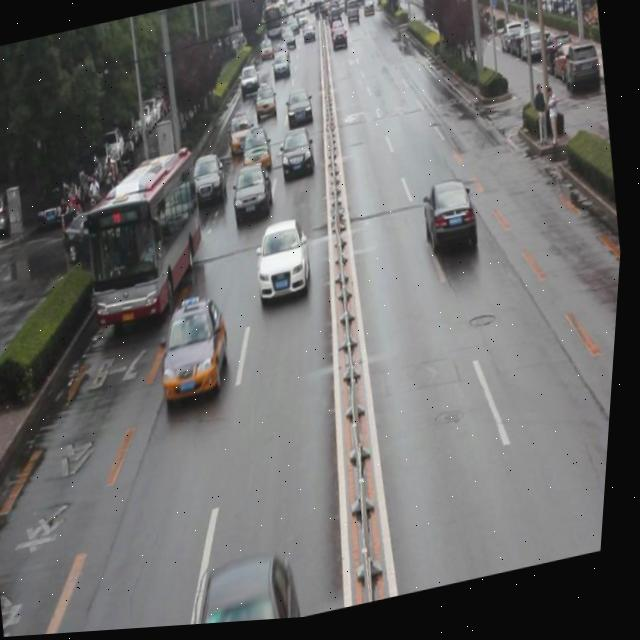car: (153, 288, 244, 408), (179, 548, 313, 629), (250, 221, 322, 311), (420, 180, 485, 266), (64, 208, 138, 273), (229, 165, 281, 226), (187, 151, 233, 211), (277, 131, 321, 186), (239, 127, 277, 177), (225, 114, 261, 162), (283, 91, 317, 132), (252, 86, 281, 126)
van: (78, 147, 221, 337)
